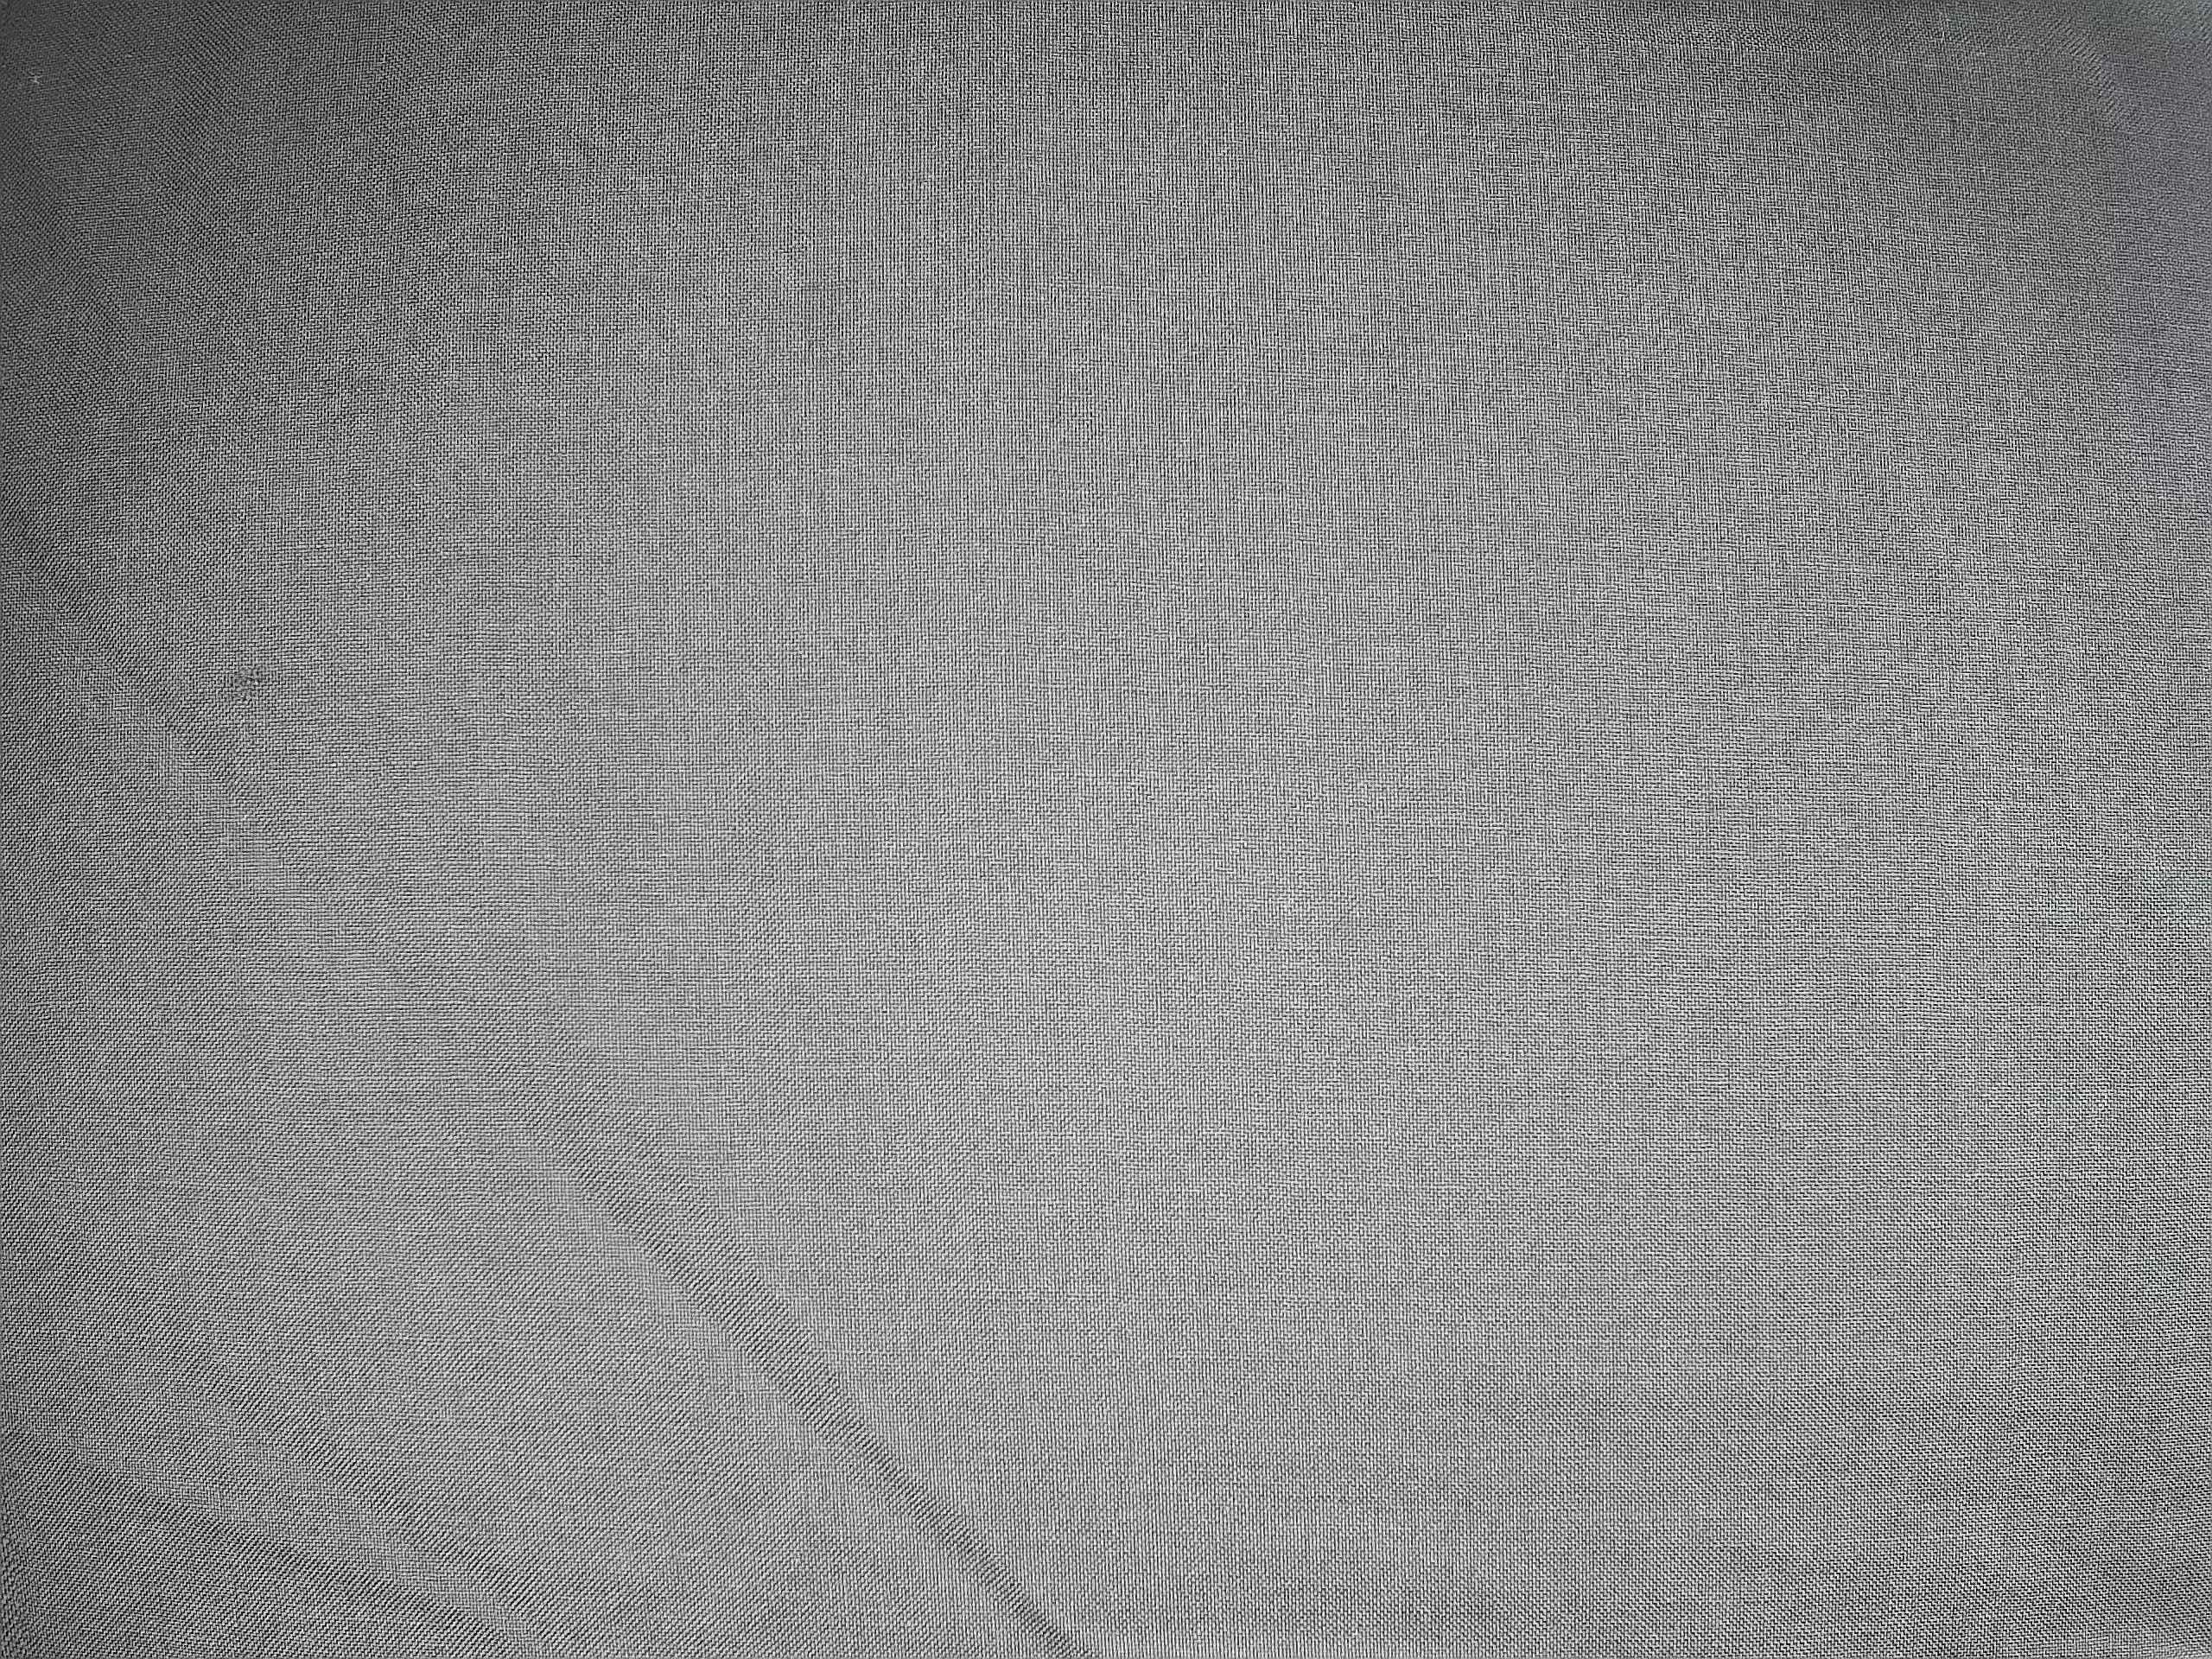rubbing-hole: (207, 655, 284, 714)
